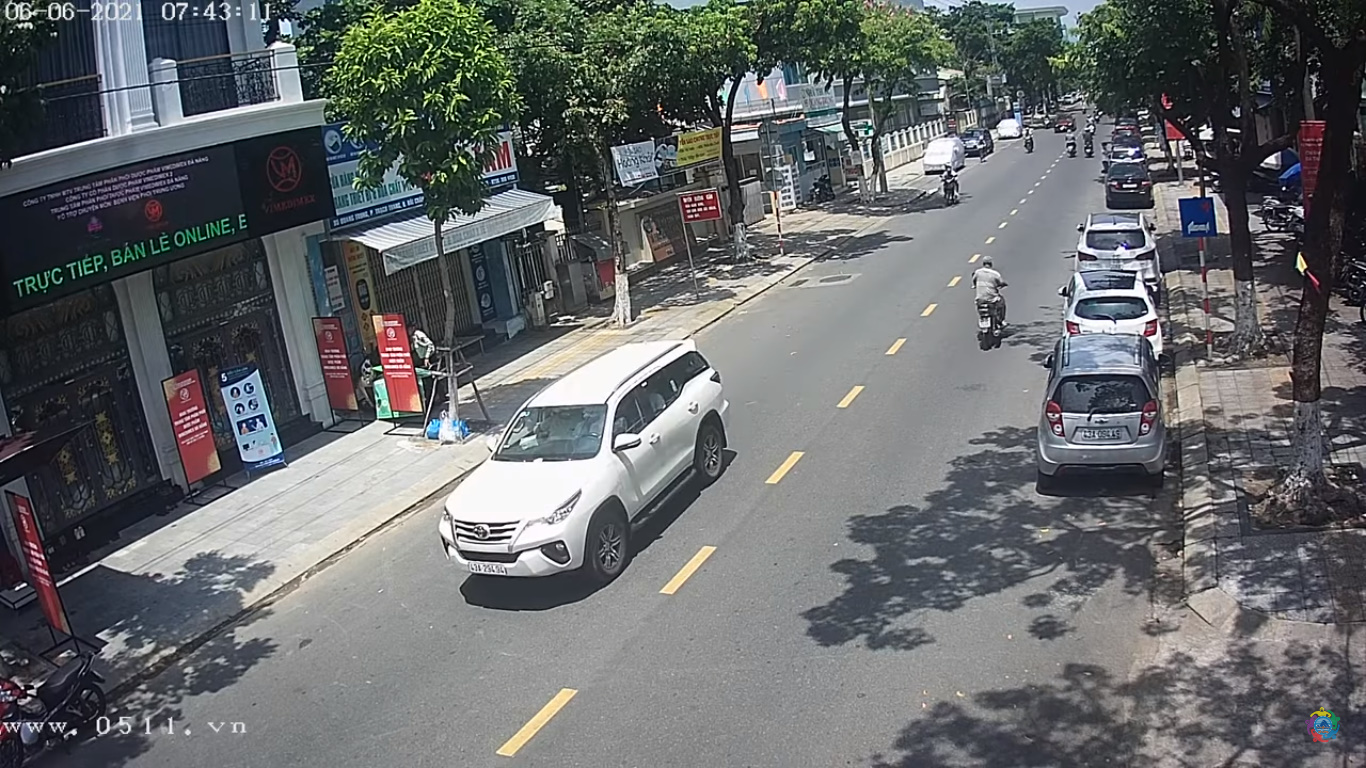car: (442, 340, 729, 587)
